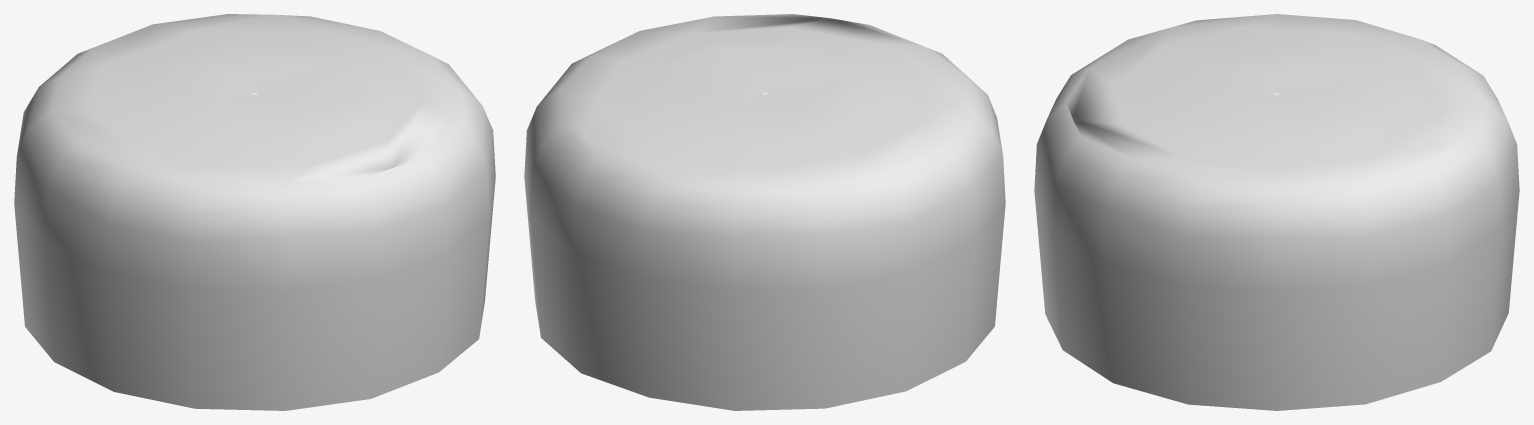
The model's file is Wacher_water_cover.fbx.
3 renders of one model, left to right at view 1: azimuth 30°, elevation 25°; view 2: azimuth 150°, elevation 25°; view 3: azimuth 270°, elevation 25°, orthographic.
Visible parts, largest first — view 1: Washer water_cover; view 2: Washer water_cover; view 3: Washer water_cover.
Boxes of the visible parts, left/top/right/bottom form: Washer water_cover: left=14, top=14, right=495, bottom=410; Washer water_cover: left=524, top=14, right=1005, bottom=410; Washer water_cover: left=1034, top=14, right=1519, bottom=410.
Size of the model in its own units: 8.03 by 8.04 by 4.05.
